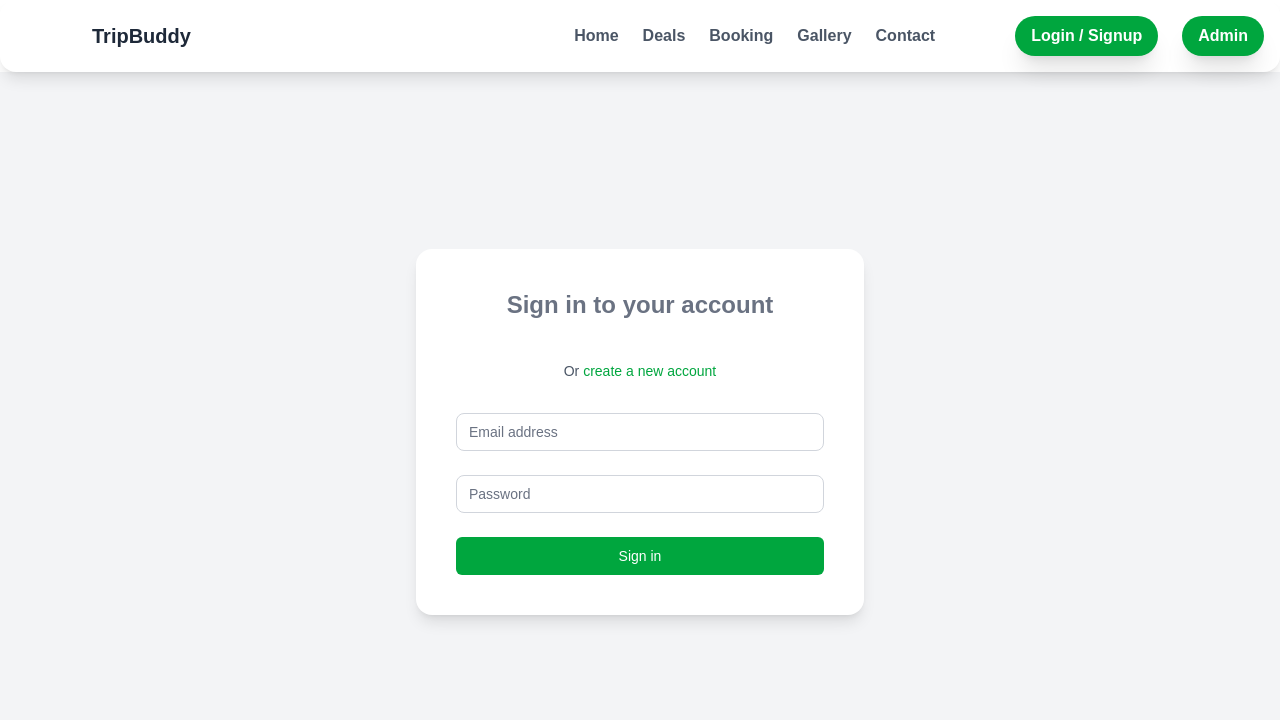
it: Phase 1: Login Module › TC-L3: Empty email shows validation error
Type "Test@1234" into the password field named "password".
click(640, 494); type("Test@1234")  # box top-left (456, 475), bottom-right (824, 513)
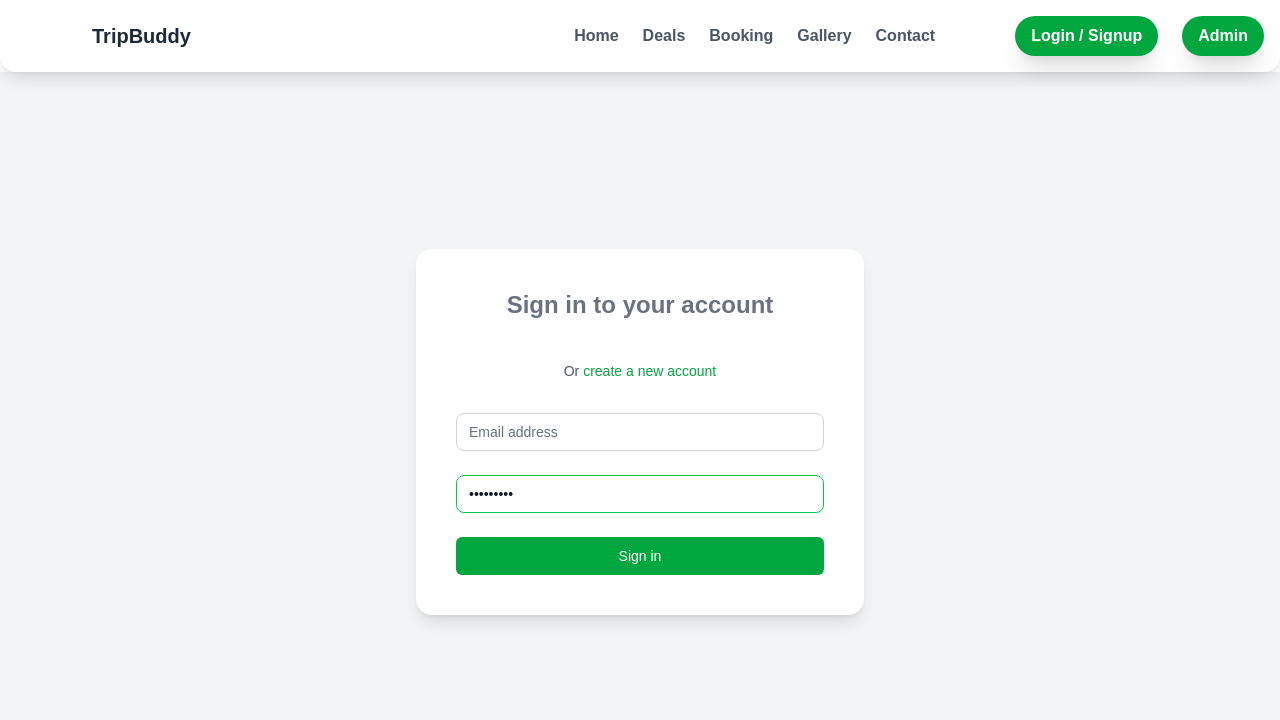
Click the submit button.
click(640, 556)  # box top-left (456, 537), bottom-right (824, 575)
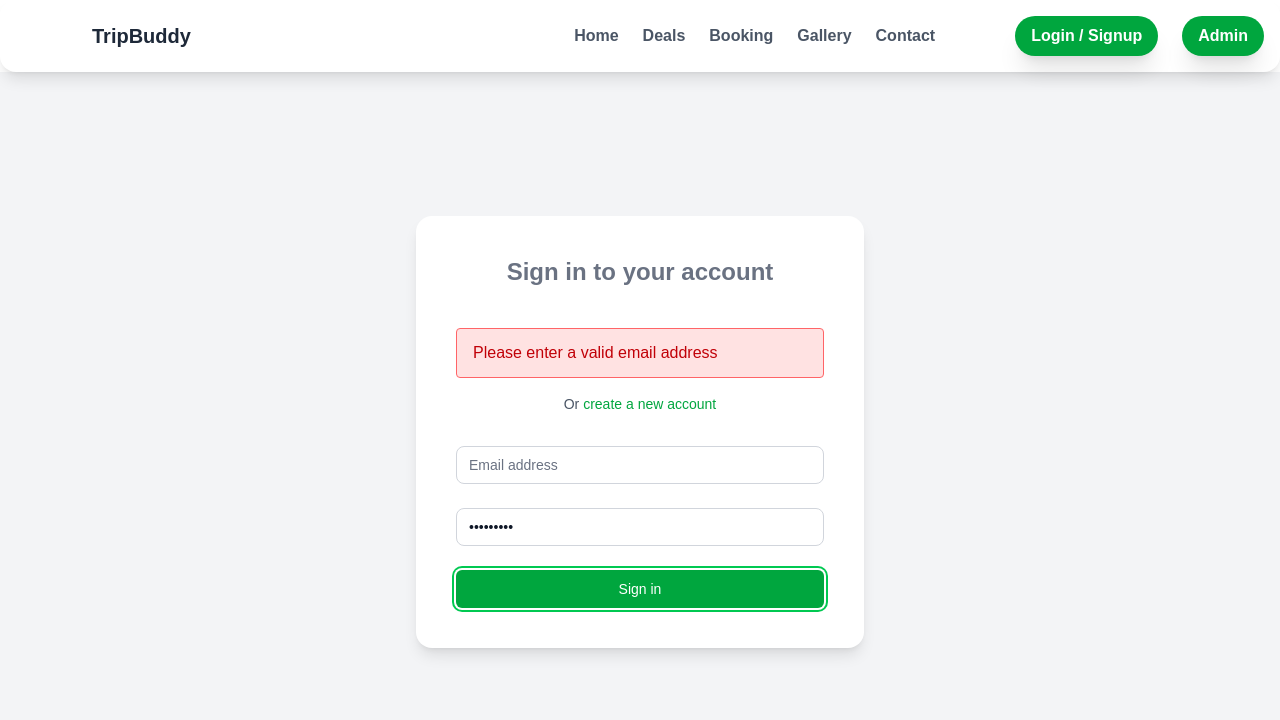
Now the text "Please enter a valid email address" is shown, box top-left (456, 328), bottom-right (824, 378)
